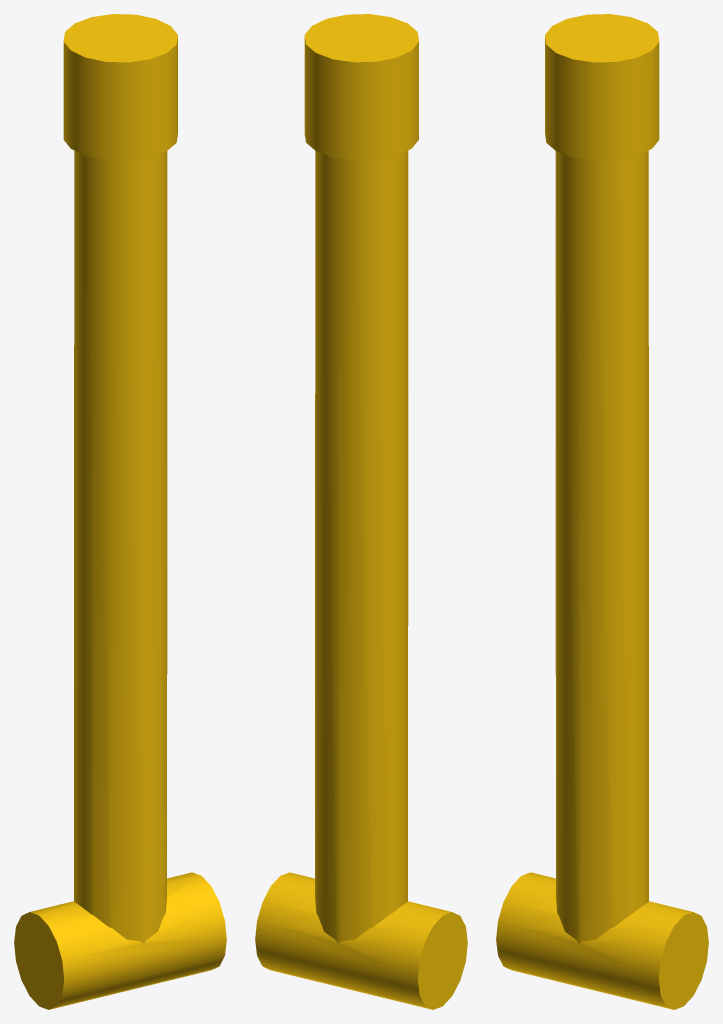
File: ExSecondHydralicsCylinder.obj
3 views of the same model, side by side, from view 1: azimuth 30°, elevation 25°; view 2: azimuth 150°, elevation 25°; view 3: azimuth 330°, elevation 25° (orthographic).
Visible parts, largest first — view 1: Mesh1 Group2 Group1 liebherr_excavator1 Model; view 2: Mesh1 Group2 Group1 liebherr_excavator1 Model; view 3: Mesh1 Group2 Group1 liebherr_excavator1 Model.
Part boxes in pixels (x1,y1,x2,y2): Mesh1 Group2 Group1 liebherr_excavator1 Model: (14,14,226,1009); Mesh1 Group2 Group1 liebherr_excavator1 Model: (255,14,467,1009); Mesh1 Group2 Group1 liebherr_excavator1 Model: (496,14,708,1009).
Bounding box in the file's own units: 0.26 × 1.45 × 0.1601.
